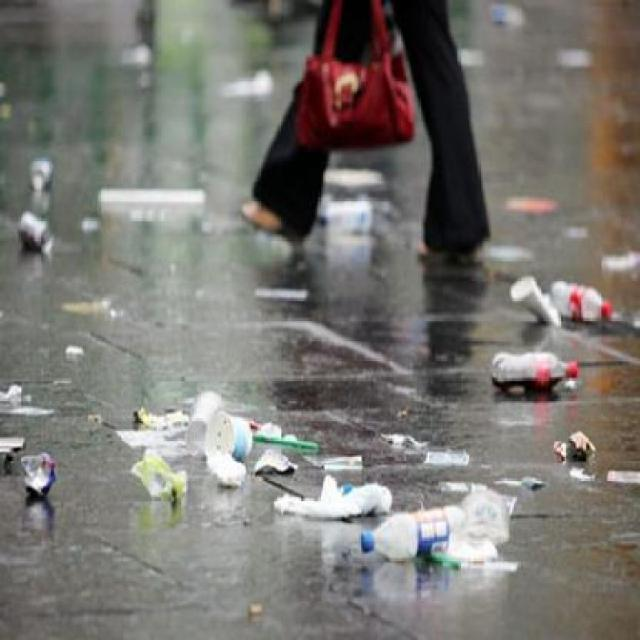garbage: (105, 391, 515, 584), (510, 263, 616, 340), (0, 391, 64, 505), (12, 140, 60, 268), (488, 343, 580, 404)
